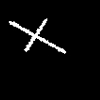single_crochet: (9, 19, 65, 53)
